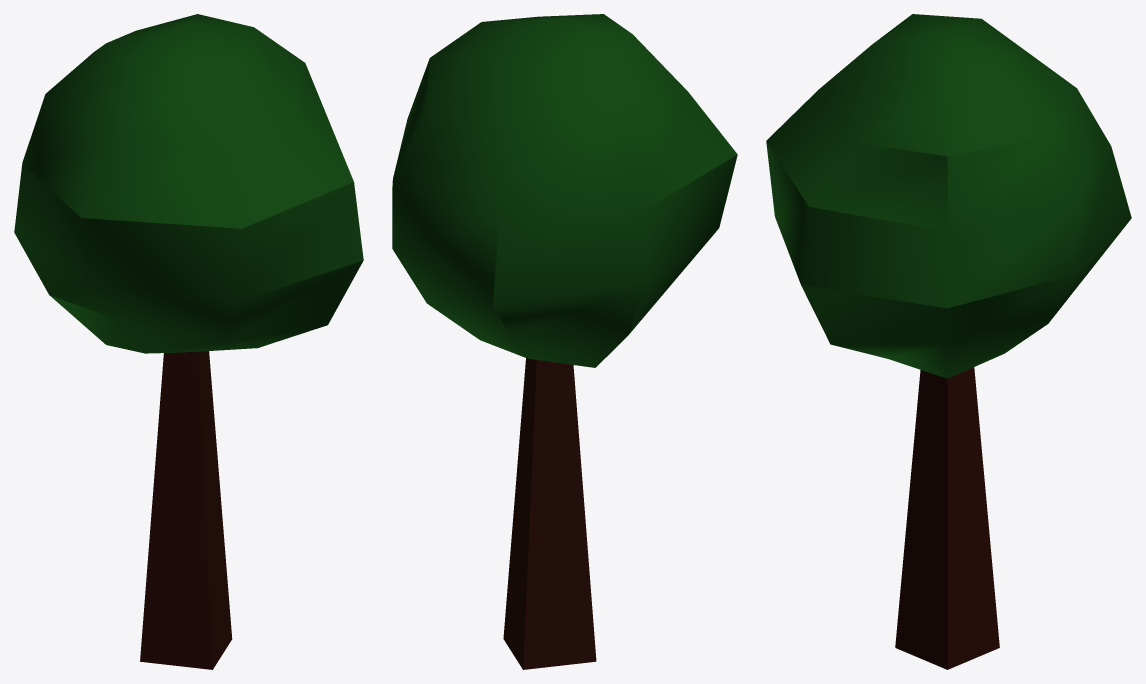
Rendered from M_Tree_02.fbx.
3 renders of one model, left to right at view 1: azimuth 30°, elevation 25°; view 2: azimuth 150°, elevation 25°; view 3: azimuth 270°, elevation 25°, orthographic. The views are drawn at different scales.
Parts seen in each view (by area): view 1: transform31; view 2: transform31; view 3: transform31.
Part boxes in pixels (x1=…): transform31: x1=14, y1=14, x2=363, y2=669; transform31: x1=392, y1=14, x2=737, y2=669; transform31: x1=766, y1=14, x2=1131, y2=669.
Bounding box in the file's own units: 1.86 × 3.68 × 1.98.
